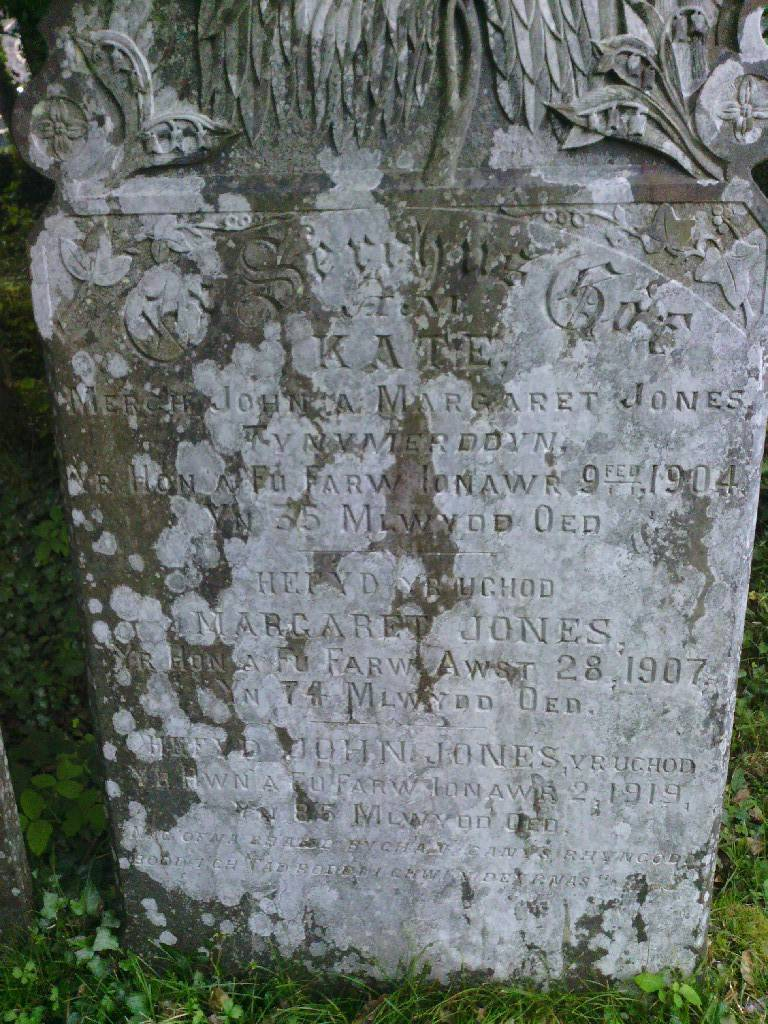upright: (9, 9, 765, 1007)
